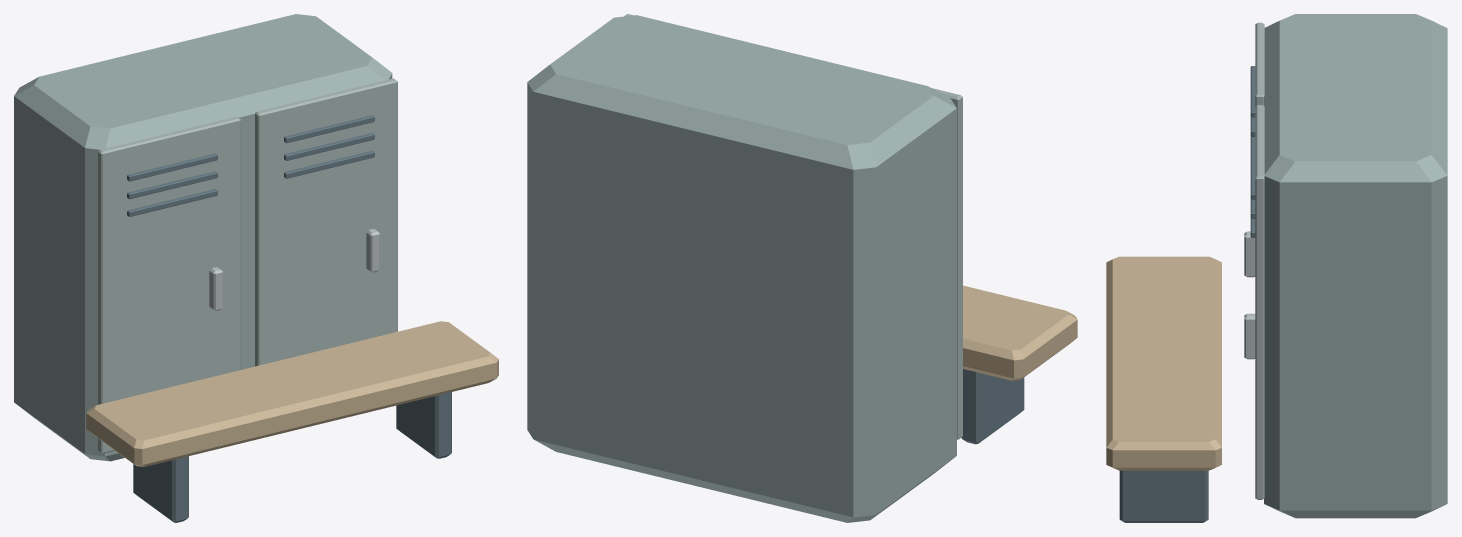
The model's file is staff_locker.glb.
3 views of the same model, side by side, from view 1: azimuth 30°, elevation 25°; view 2: azimuth 150°, elevation 25°; view 3: azimuth 270°, elevation 25° (orthographic). The views are drawn at different scales.
Visible parts, largest first — view 1: staff_locker; view 2: staff_locker; view 3: staff_locker.
Boxes of the visible parts, x1=… form: staff_locker: x1=14, y1=14, x2=498, y2=522; staff_locker: x1=527, y1=14, x2=1077, y2=522; staff_locker: x1=1106, y1=14, x2=1447, y2=522.
Size of the model in its own units: 1.72 by 1.53 by 1.3.
